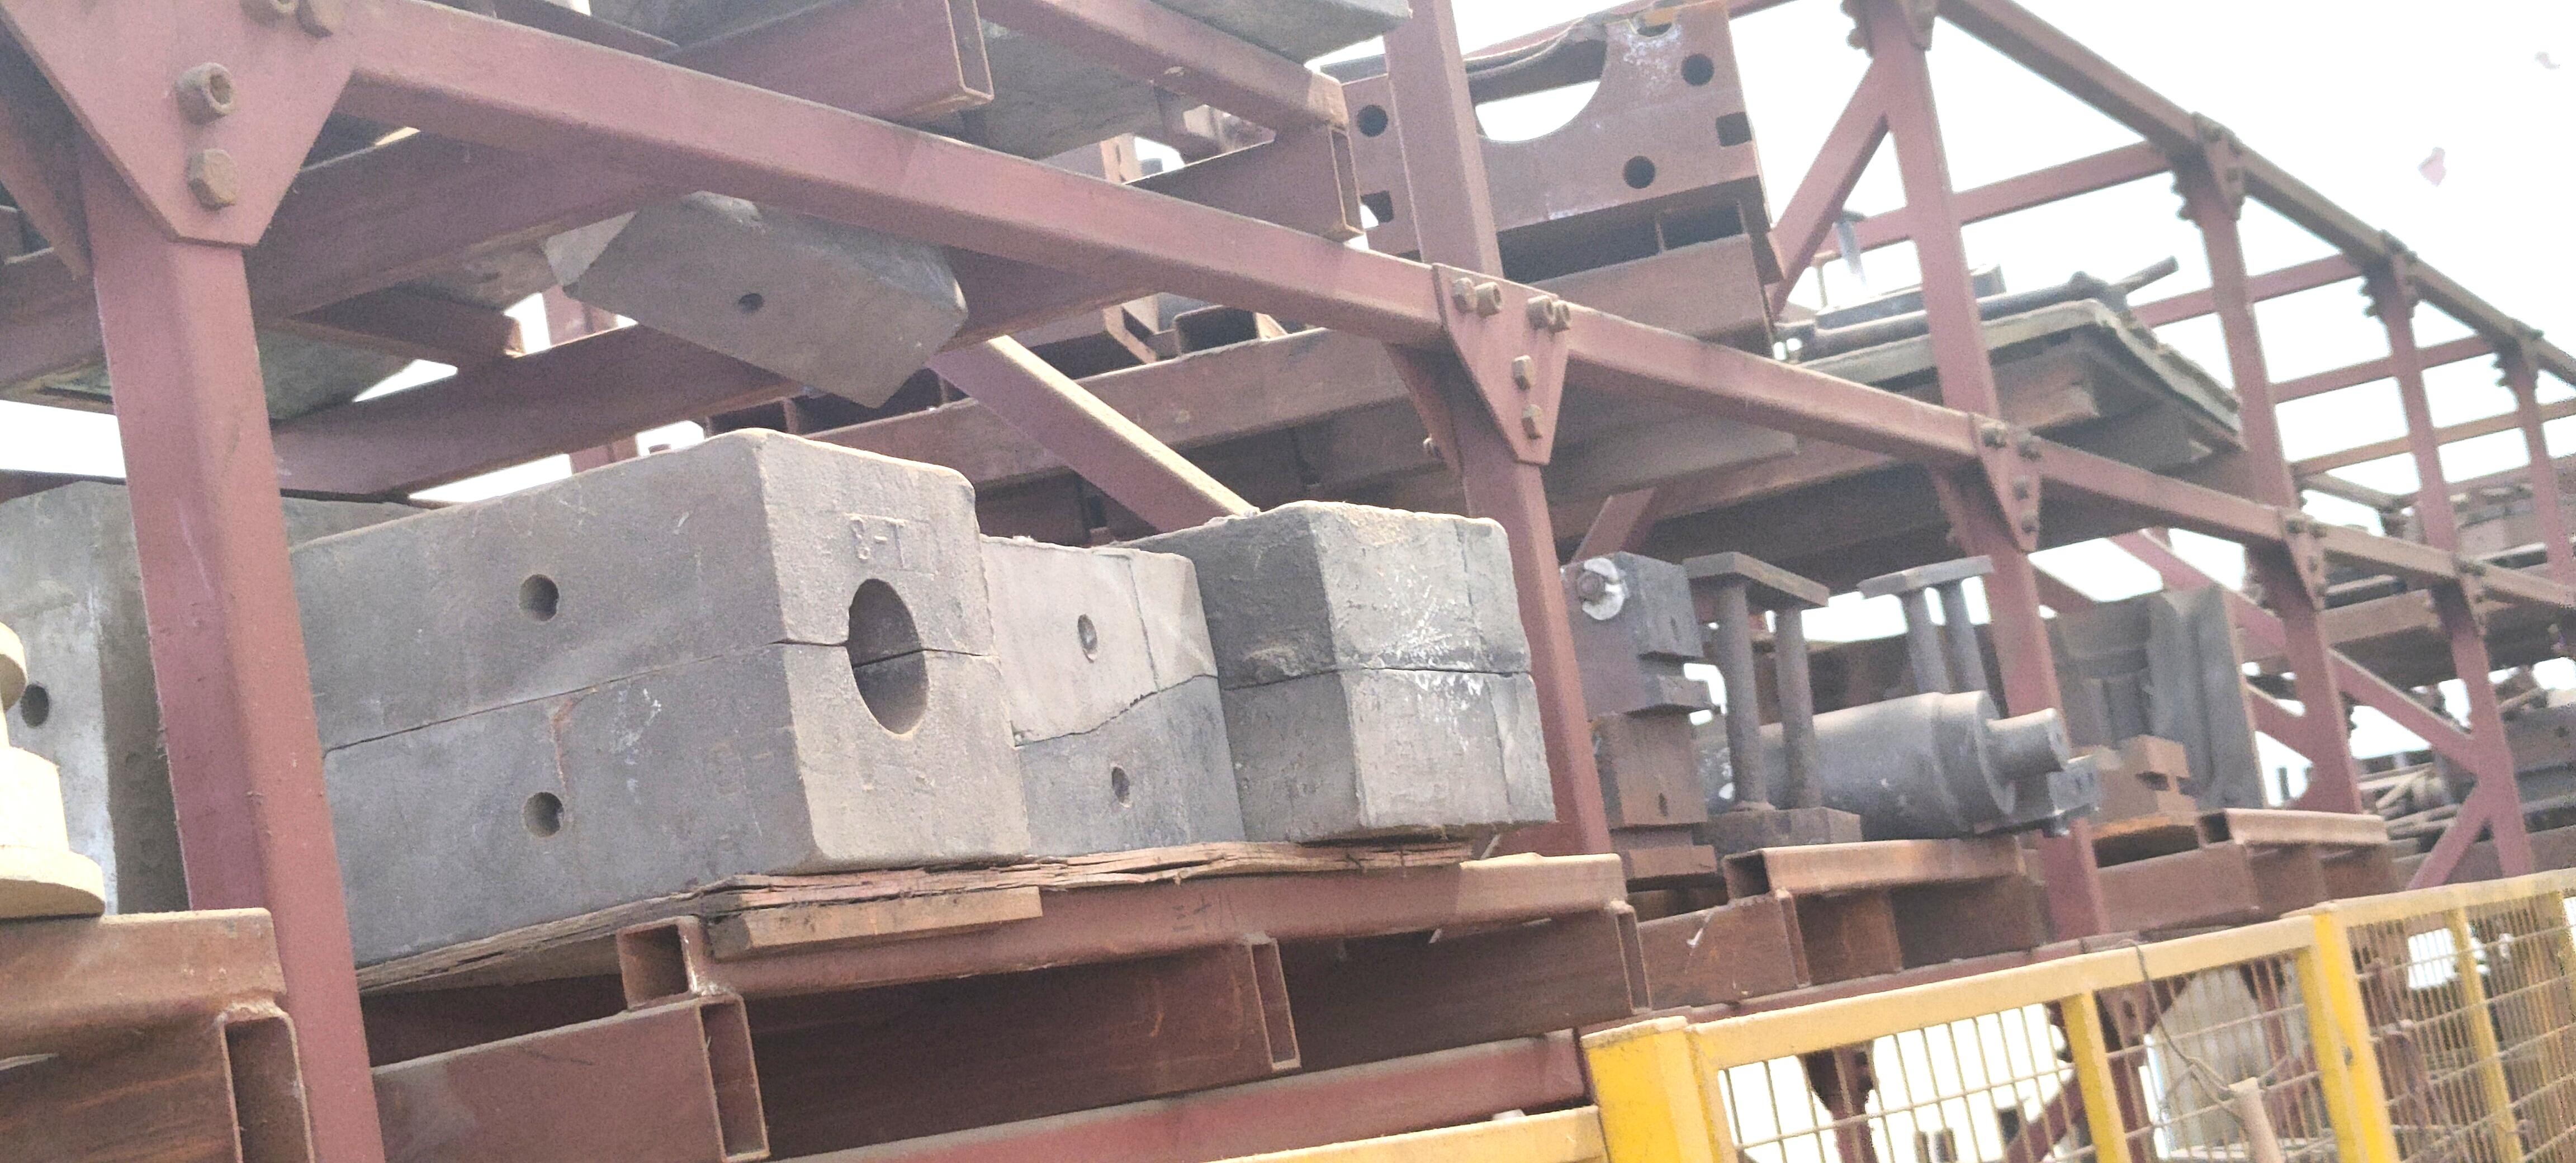pouring hole: (848, 578, 932, 738)
